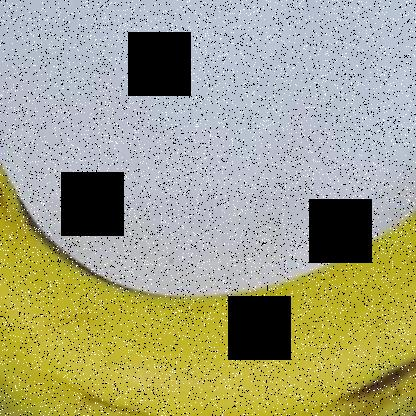freshripe: (1, 121, 416, 415)
